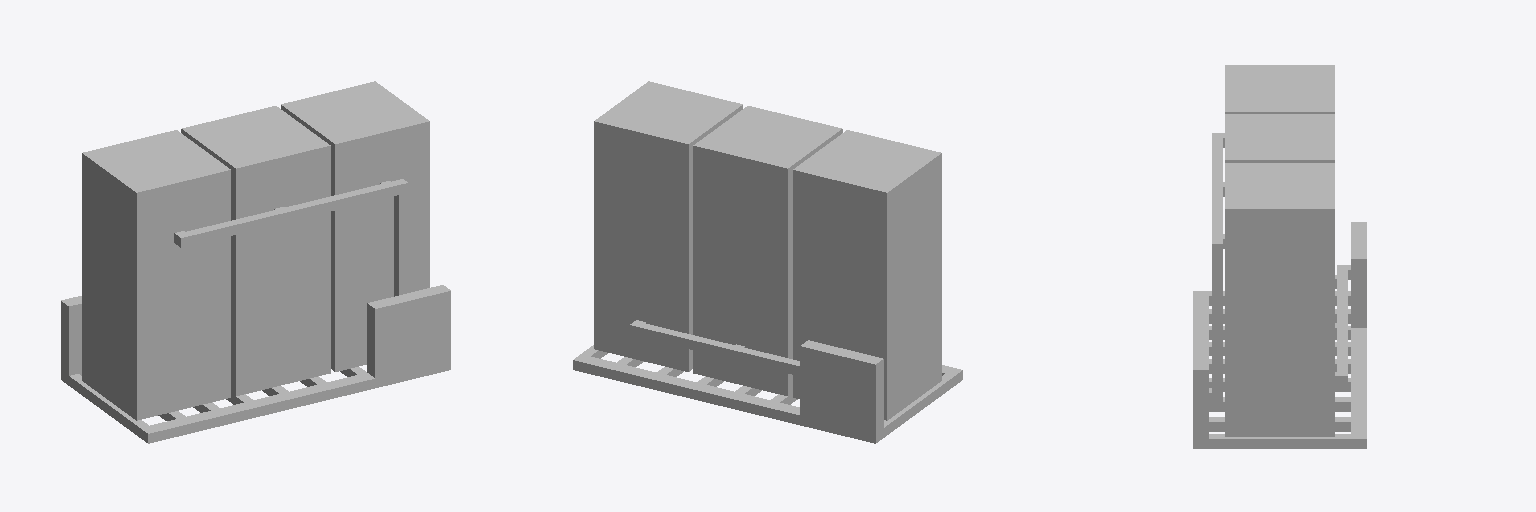
File: water_filter_mirrored.obj
The picture shows the model from 3 angles: view 1: azimuth 30°, elevation 25°; view 2: azimuth 150°, elevation 25°; view 3: azimuth 270°, elevation 25°; orthographic projection.
Parts seen in each view (by area): view 1: cube; view 2: cube; view 3: cube.
Part boxes in pixels (bbox=[...]): cube: bbox=[61, 81, 450, 443]; cube: bbox=[573, 81, 962, 443]; cube: bbox=[1193, 65, 1366, 448].
Bounding box in the file's own units: 4 × 3 × 2.